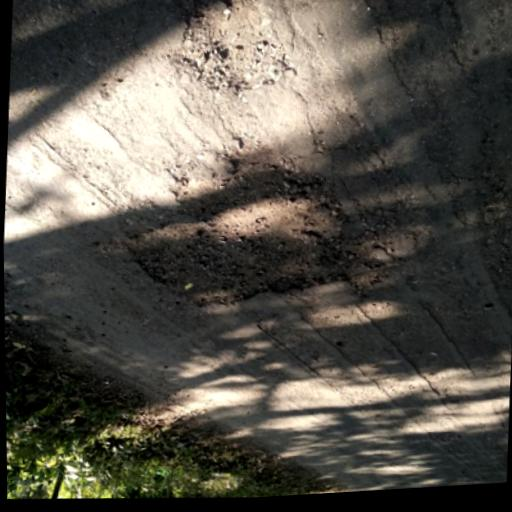pothole: (118, 125, 393, 321), (173, 0, 298, 99)
